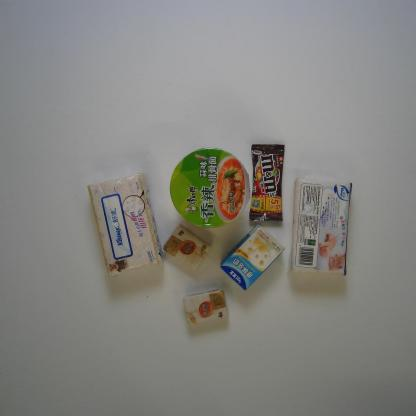Chocolate: (249, 141, 286, 224)
Instant Noodles: (168, 145, 251, 230)
Milk: (219, 223, 285, 292)
Tissue: (87, 171, 164, 280), (289, 177, 354, 280), (162, 224, 212, 271), (182, 288, 228, 326)
